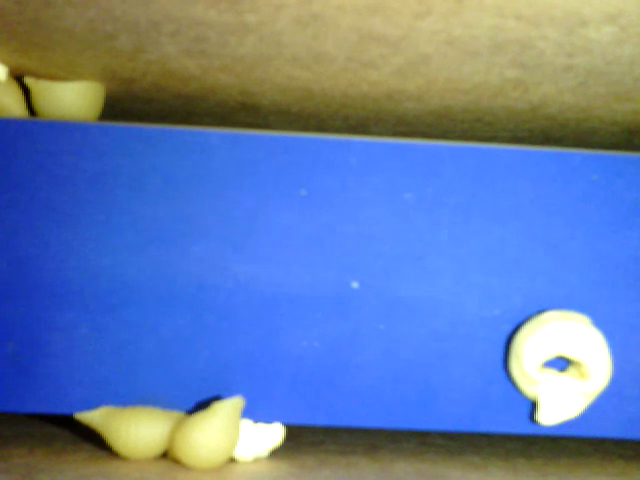shell: (70, 408, 192, 460), (167, 394, 245, 469), (24, 71, 107, 125)
tortellini: (507, 310, 614, 428)
